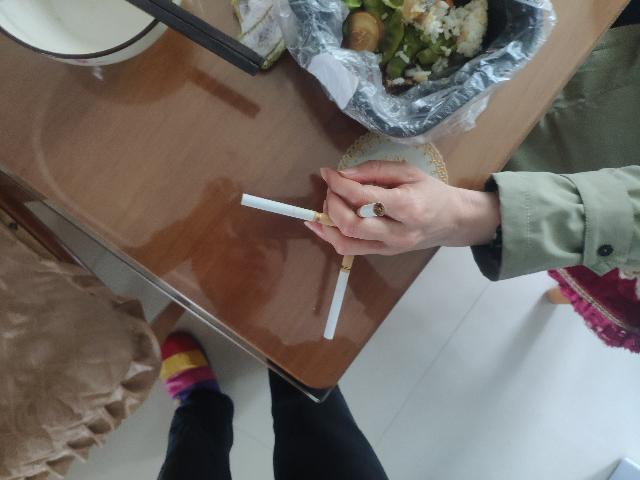Cigarette: (240, 192, 344, 230), (324, 244, 356, 340), (355, 203, 387, 219)
